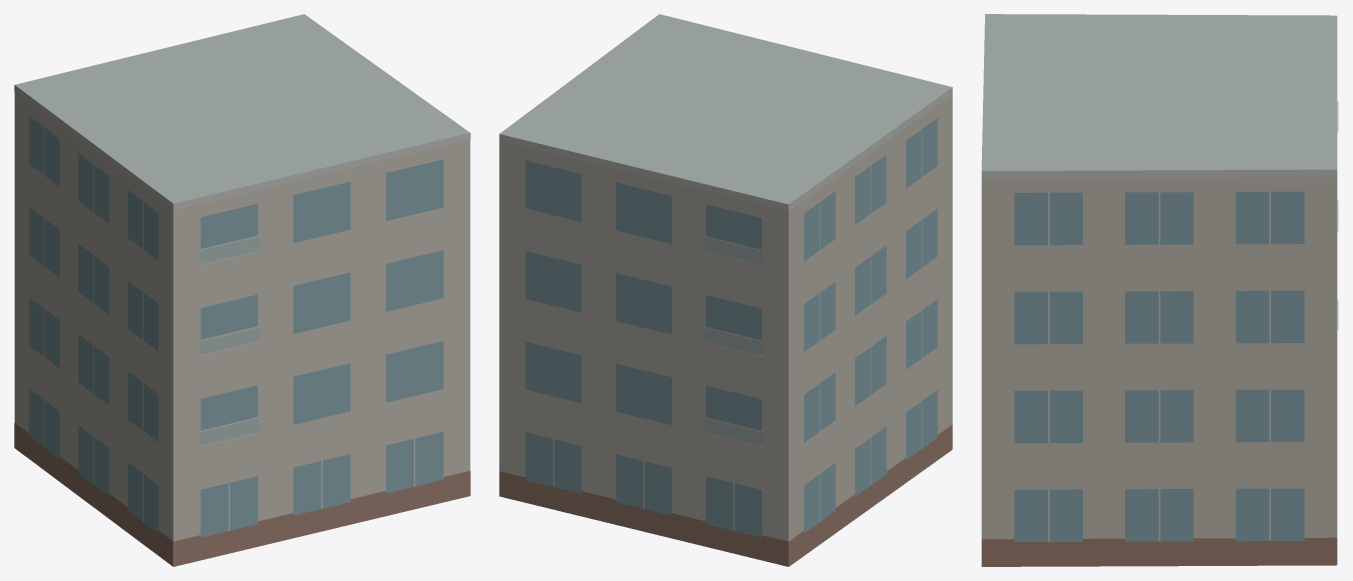
File: survey-upis-32781823.glb
The picture shows the model from 3 angles, left to right: view 1: azimuth 30°, elevation 25°; view 2: azimuth 150°, elevation 25°; view 3: azimuth 270°, elevation 25°; orthographic projection. The views are drawn at different scales.
Visible parts, largest first — view 1: survey-upis-32781823.tmp; view 2: survey-upis-32781823.tmp; view 3: survey-upis-32781823.tmp.
Boxes of the visible parts, box(x1,y1,x2,y2) form: survey-upis-32781823.tmp: box(14, 14, 470, 566); survey-upis-32781823.tmp: box(499, 14, 952, 566); survey-upis-32781823.tmp: box(981, 14, 1338, 566).
Size of the model in its own units: 11.08 by 13 by 10.63.
